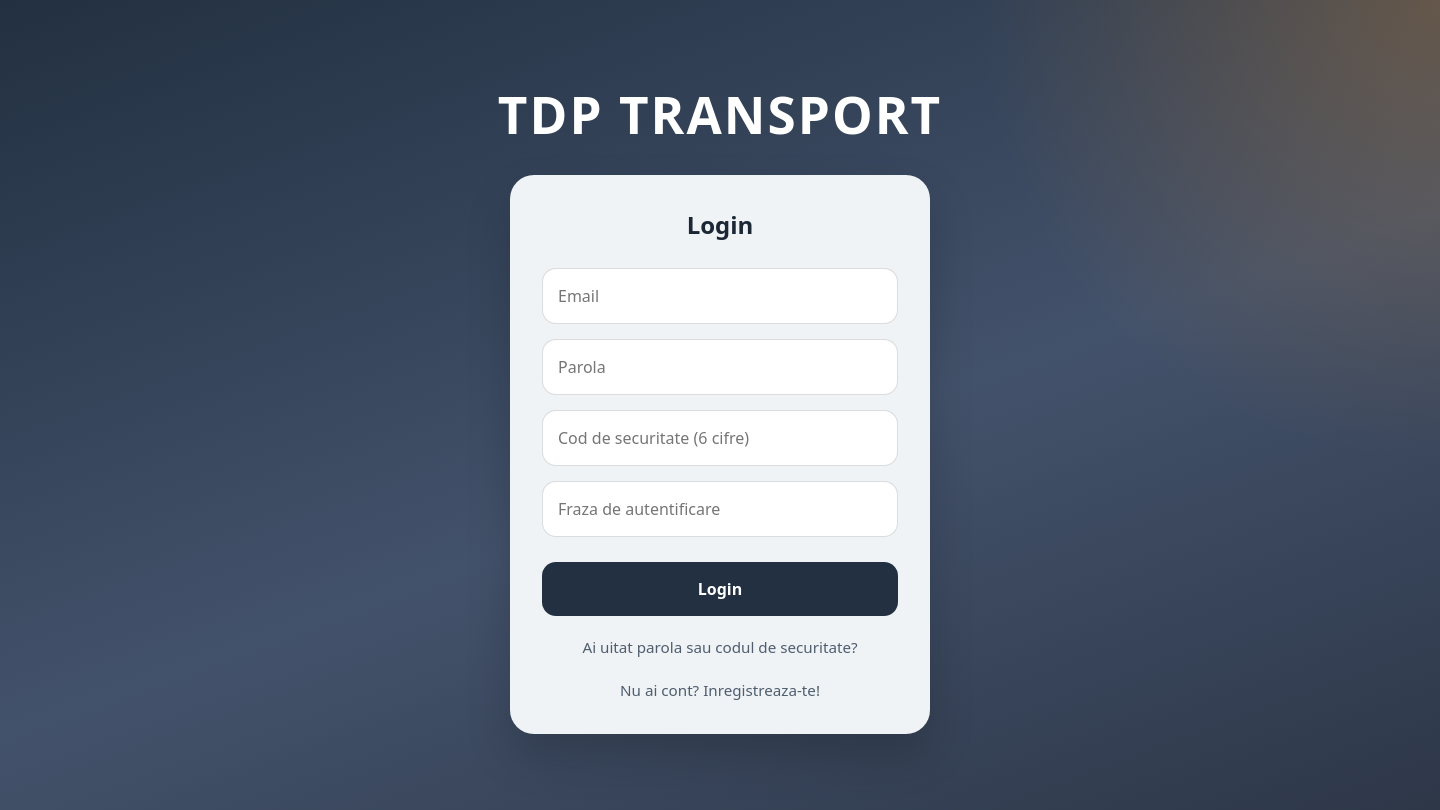
Test case: Login page › shows the current validation error when the authentication phrase is missing
In the field with placeholder "Email": coordinates (720, 296) [542,268,898,324], type "admin@tdptrans.ro"
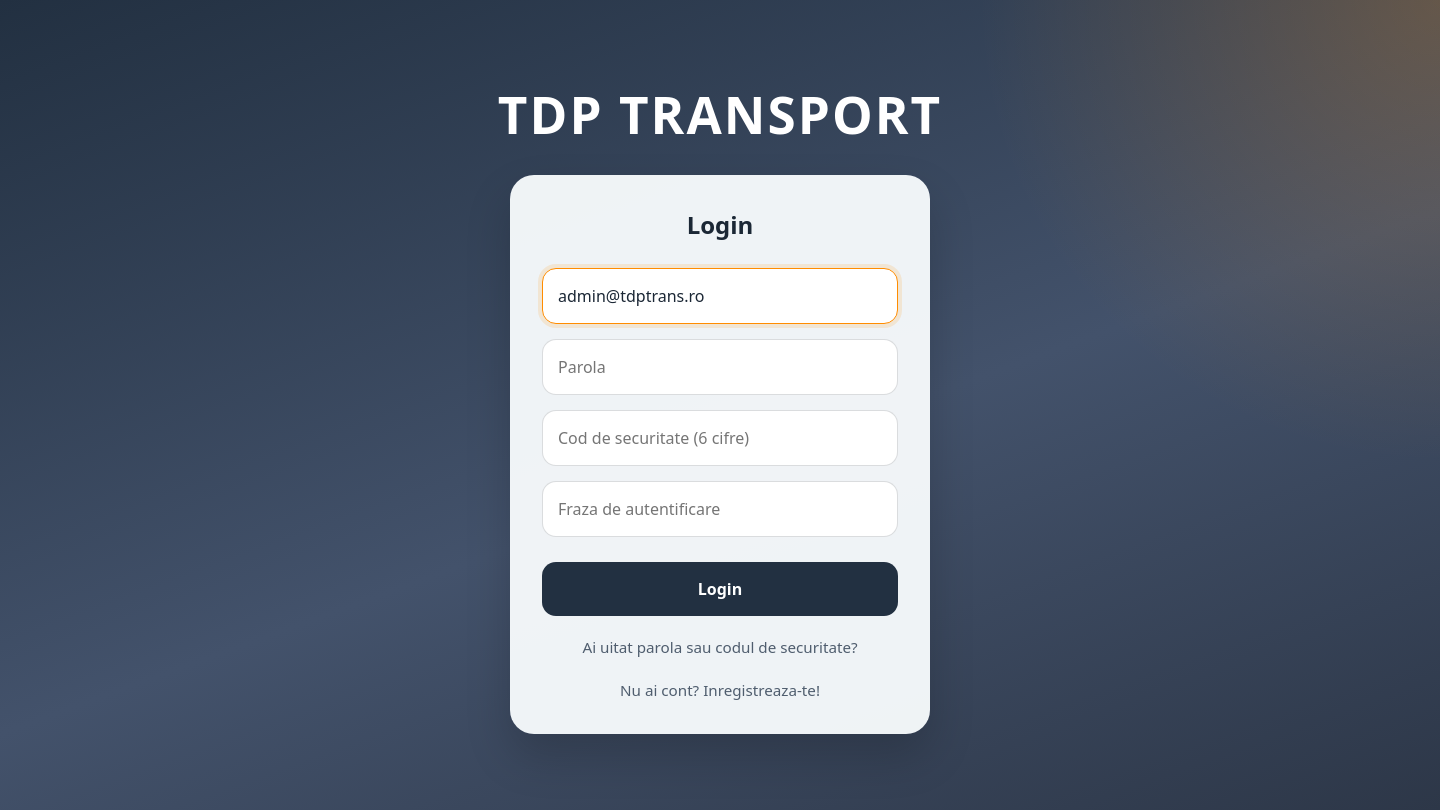
In the password field with placeholder "Parola": coordinates (720, 367) [542,339,898,395], type "parola_sigura"
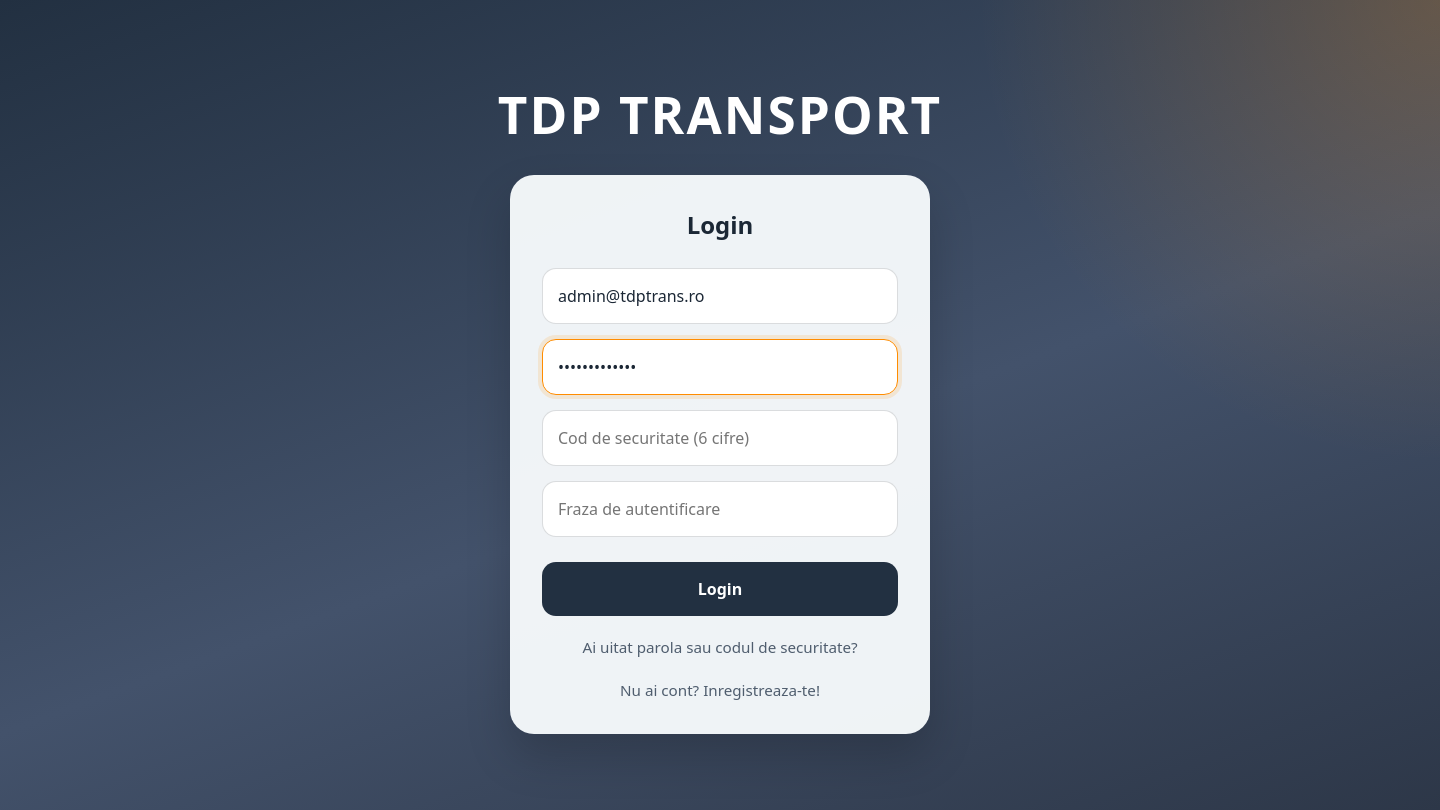
In the password field with placeholder "Cod de securitate (6 cifre)": coordinates (720, 438) [542,410,898,466], type "246810"
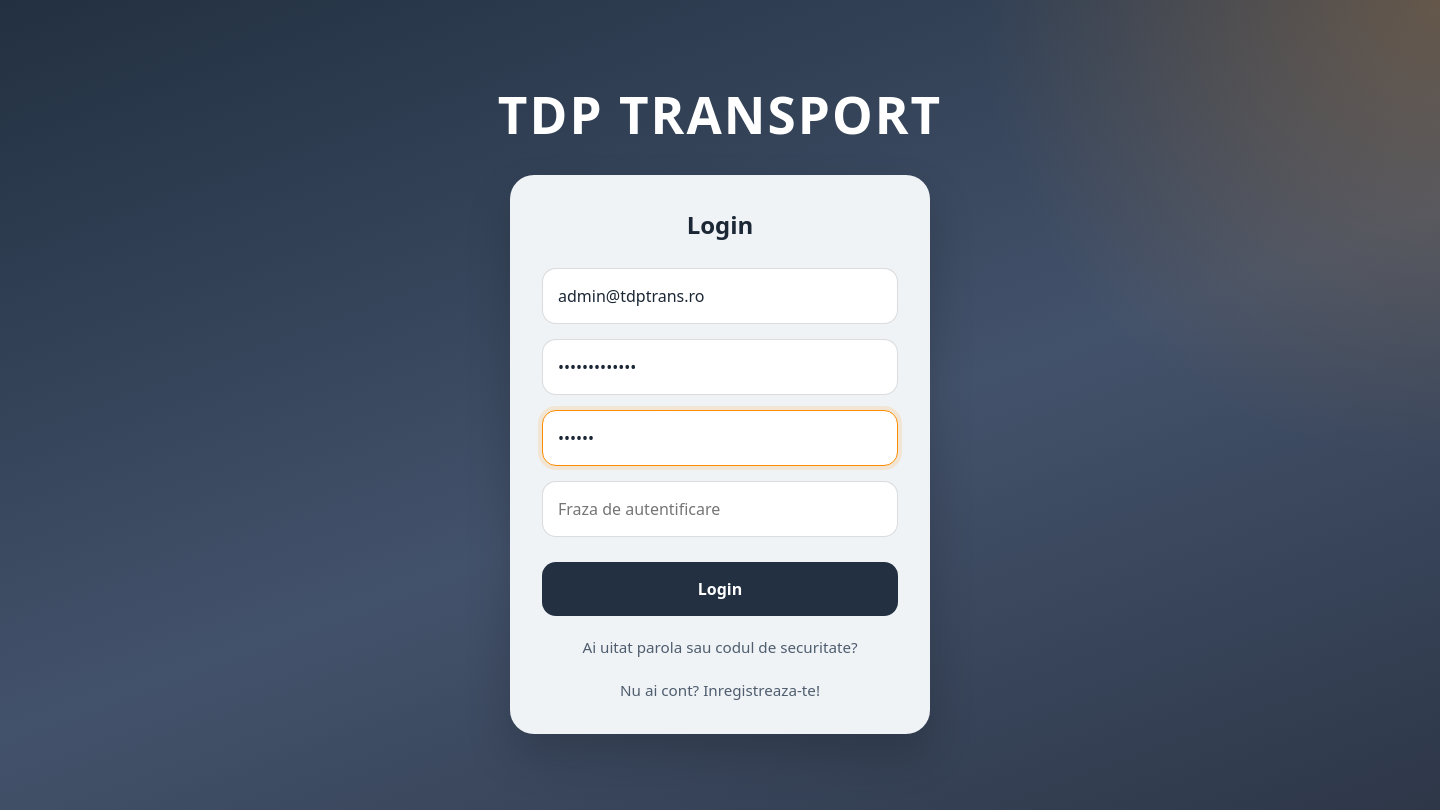
Click the button "Login": coordinates (720, 589) [542,562,898,616]
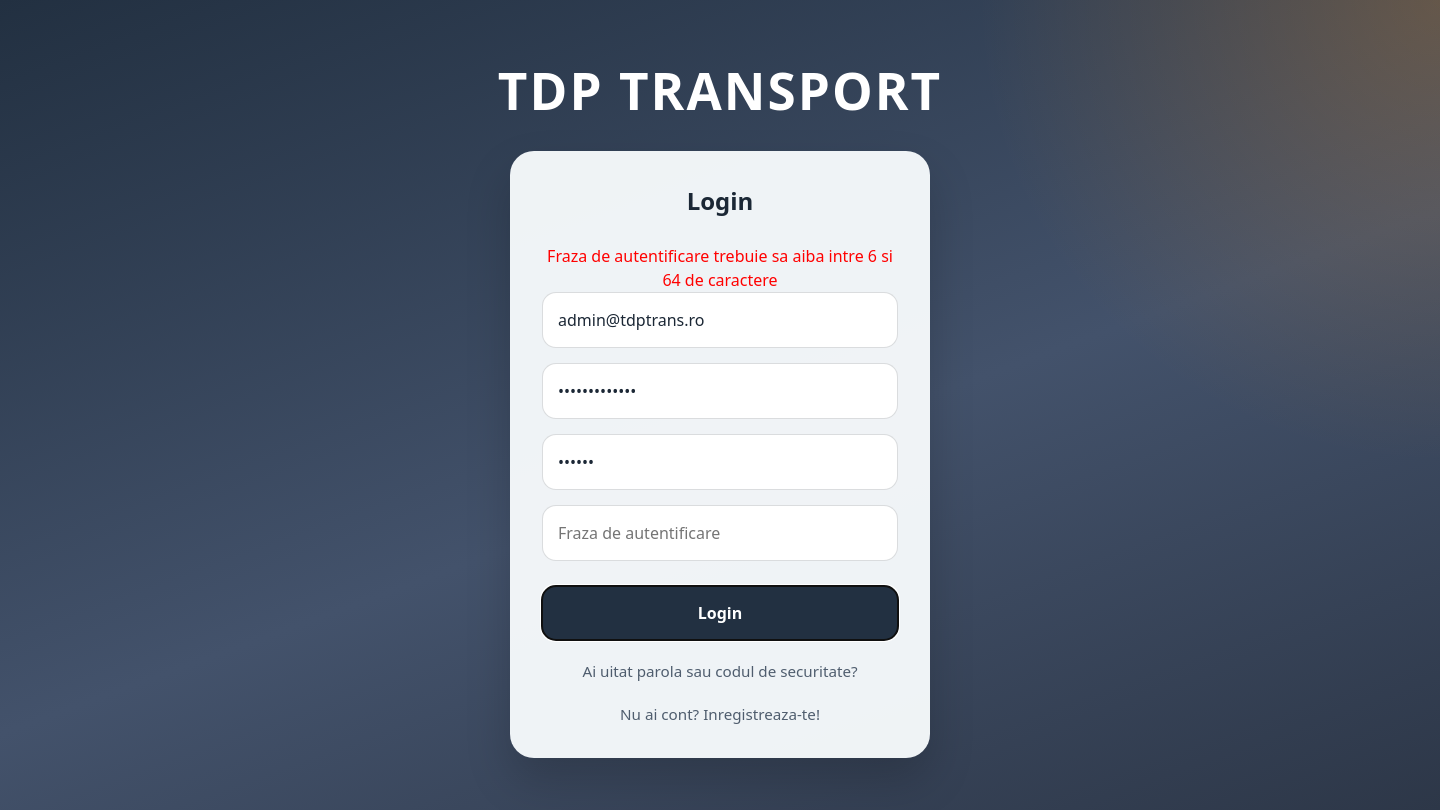
Check: the text "Fraza de autentificare trebuie sa aiba intre 6 si 64 de caractere" is shown, box [542,244,898,292]
